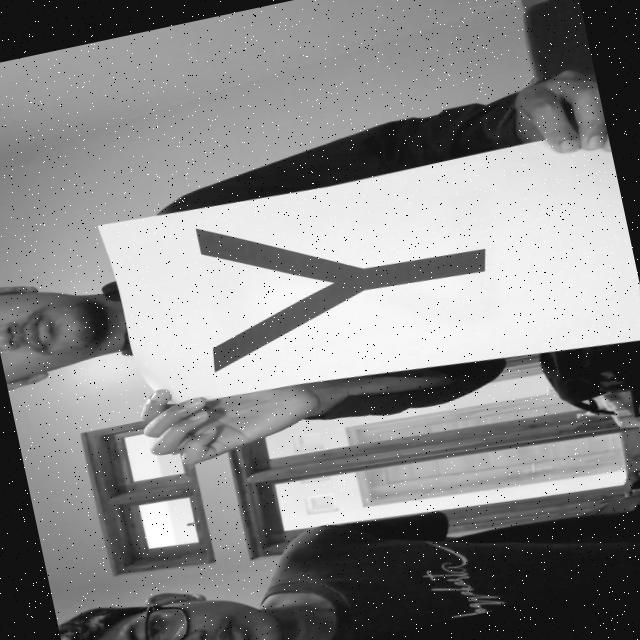y: (171, 152, 528, 379)
